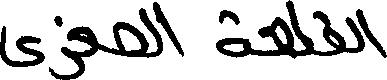X: (0, 21, 44, 71), (51, 11, 77, 79), (217, 5, 248, 62), (261, 0, 290, 60), (357, 4, 386, 62), (156, 0, 182, 61), (292, 0, 312, 63), (79, 21, 98, 79), (114, 17, 138, 61), (324, 9, 344, 60), (140, 0, 154, 62), (348, 12, 355, 57)
